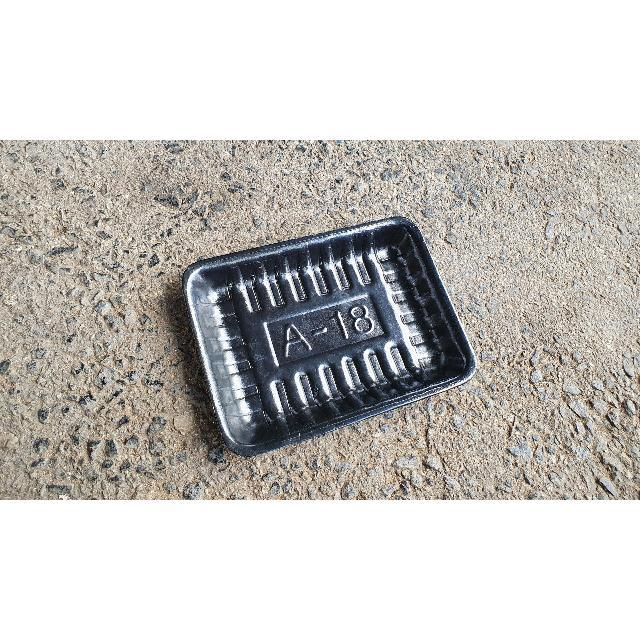Plastico descartable: (180, 217, 477, 458)
